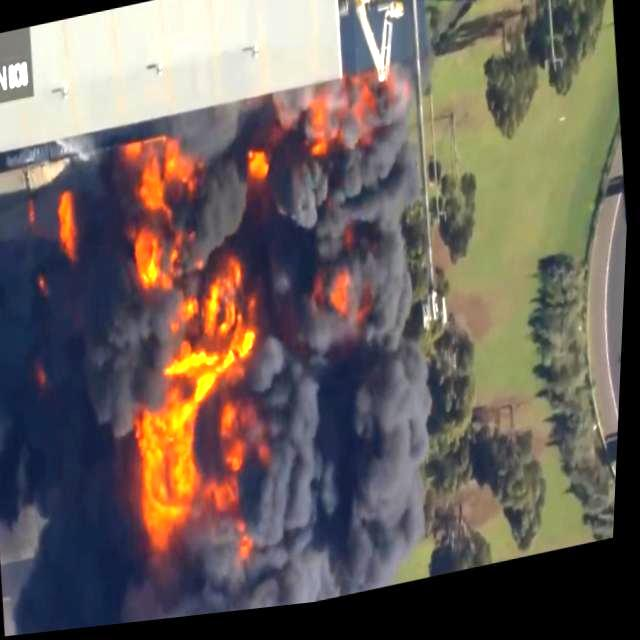fire: (106, 113, 294, 551), (46, 184, 82, 272), (298, 102, 340, 172), (346, 76, 398, 126), (238, 144, 278, 202), (228, 520, 266, 580), (314, 268, 354, 324), (55, 192, 81, 260)
